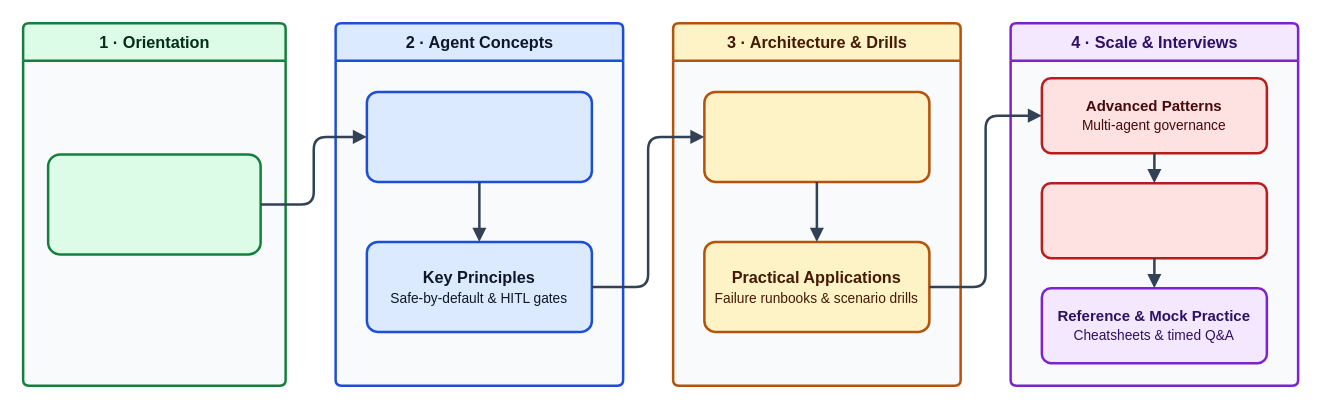
The diagram is 1320 pixels wide and 408 high, and some of its shapes have lost their labels. Each missing label, with the centre of its shape:
"Building Blocks Control vs. execution planes" goes at (x=816, y=136).
"Core Concepts Agent loop & trust boundaries" goes at (x=478, y=136).
"Production Ops SLOs, triage & safe recovery" goes at (x=1154, y=220).
"Start Here Roadmap & Product vs. Platform Track" goes at (x=153, y=203).
